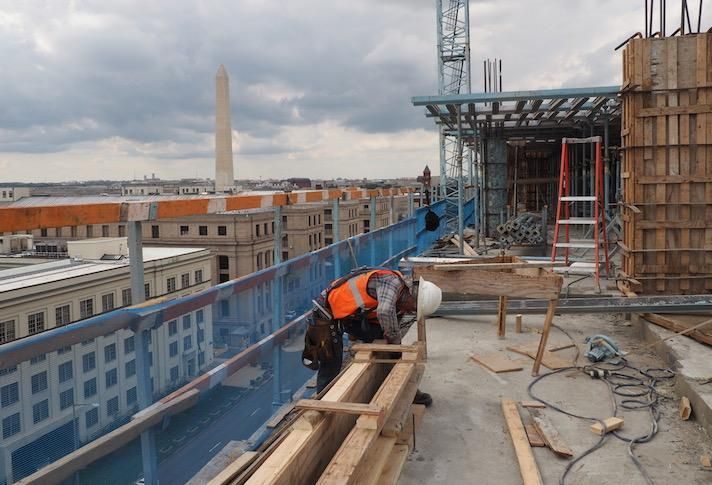epi: (302, 261, 453, 401)
